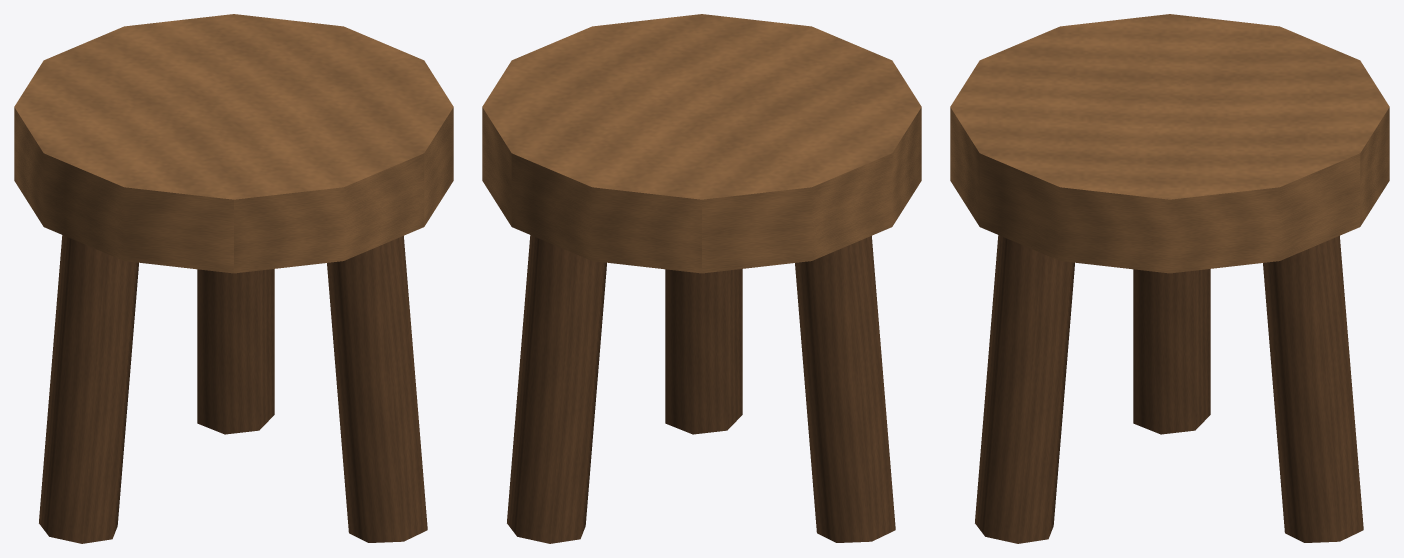
The model's file is stool.fbx.
The picture shows the model from 3 angles, left to right: view 1: azimuth 30°, elevation 25°; view 2: azimuth 150°, elevation 25°; view 3: azimuth 270°, elevation 25°; orthographic projection.
Parts seen in each view (by area): view 1: stool__Geometry; view 2: stool__Geometry; view 3: stool__Geometry.
Boxes of the visible parts, x1,y1,x2,y2 form: stool__Geometry: (14, 14, 453, 543); stool__Geometry: (482, 14, 921, 543); stool__Geometry: (950, 14, 1389, 543).
Size of the model in its own units: 0.54 by 0.5242 by 0.54.
Materials: 1 (1 with a texture image).
